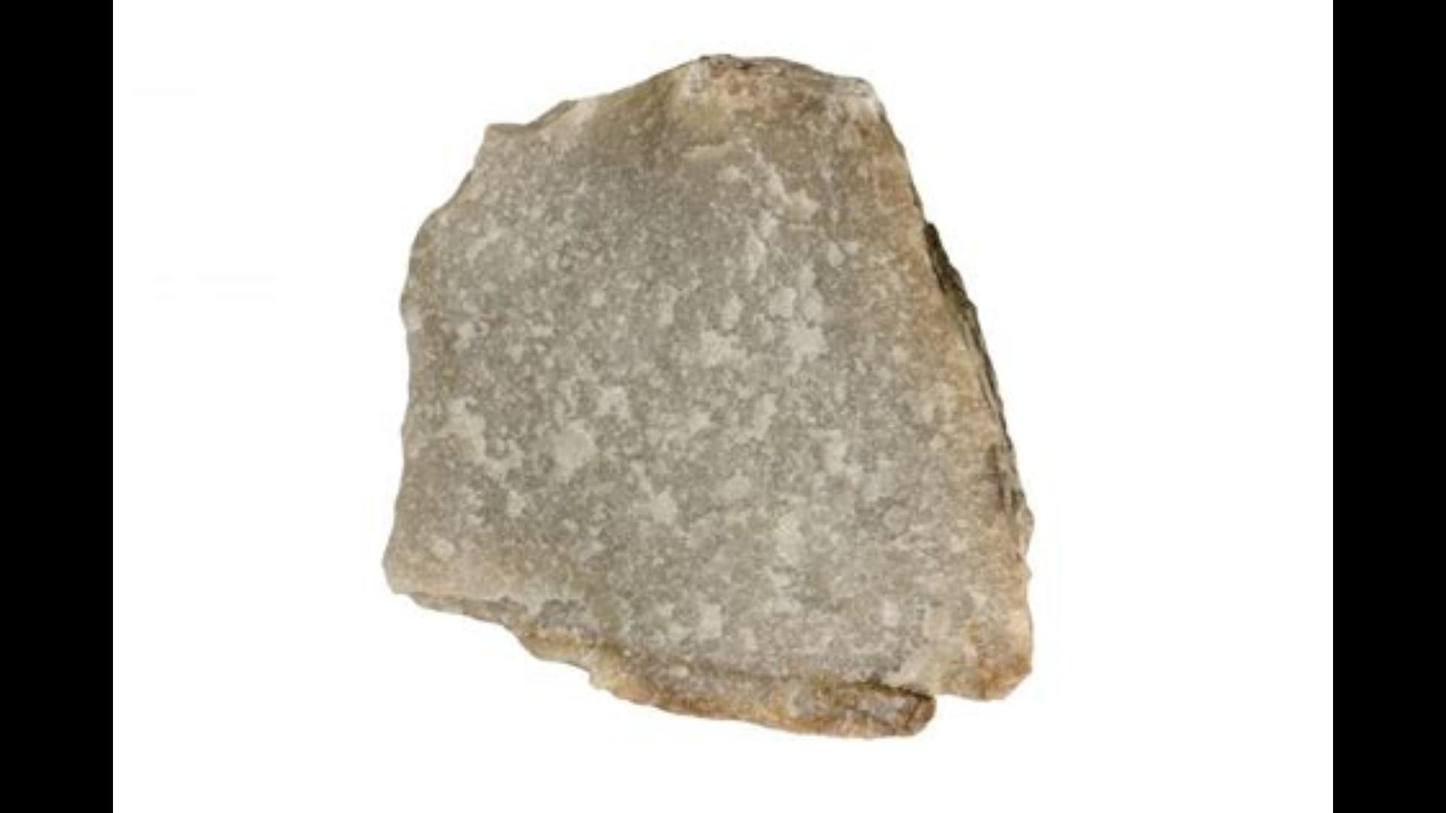rock: (391, 57, 1029, 731)
